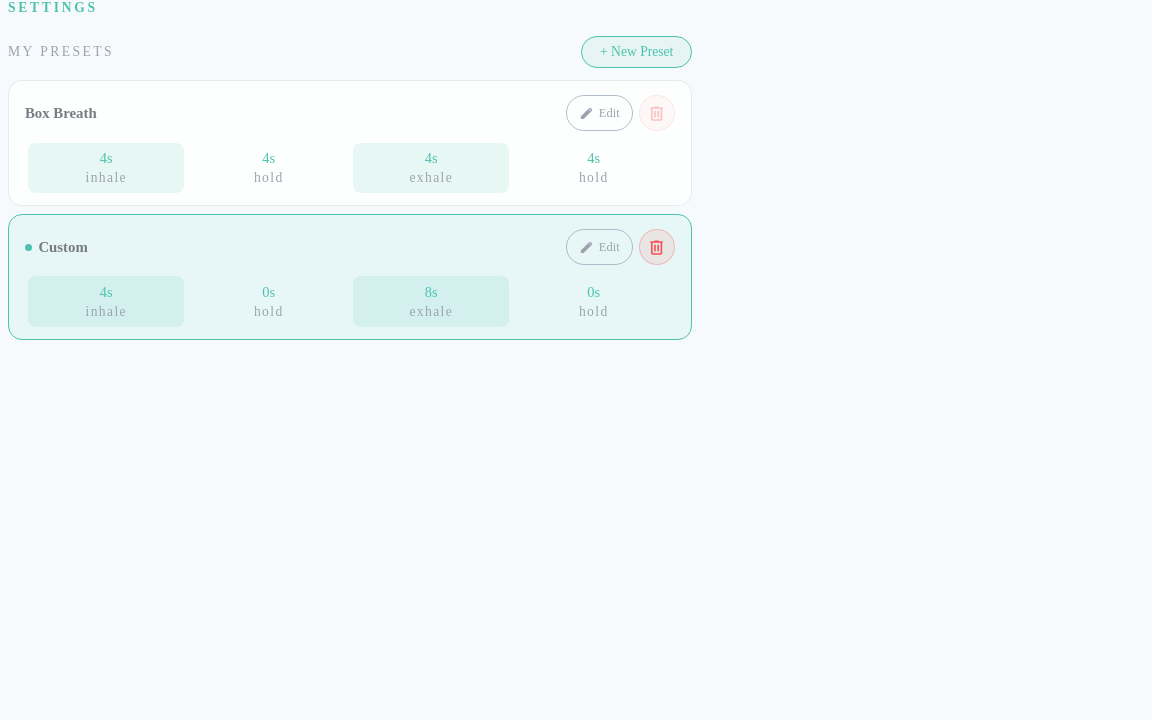
it: SettingsPage › "New Preset" shows blank form with Save Preset button
What coordinates should you click on to do the following:
click the button with class "new-preset-desktop"
I would click on:
 (637, 52)
Its box is [582,36,692,68].
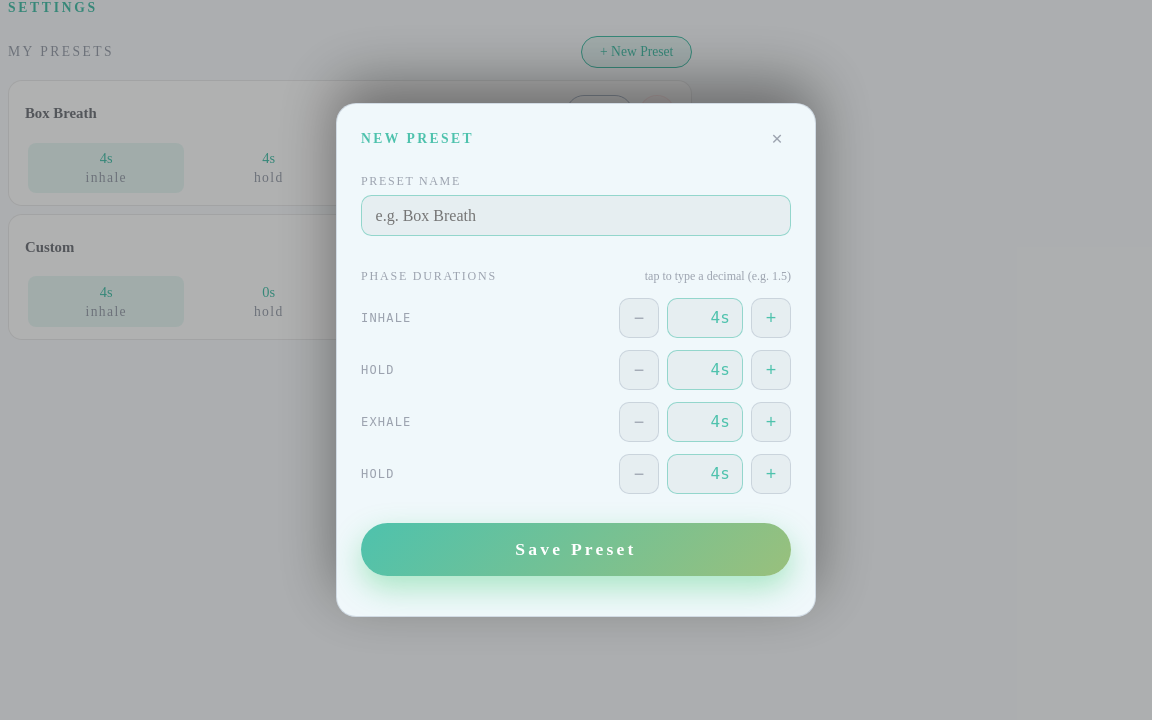
Expected: the form is shown, [361,174,791,576]
Expected: the field labelled "Preset name" is empty, [361,195,791,236]
Expected: the submit button reads "Save Preset", [361,524,791,576]
